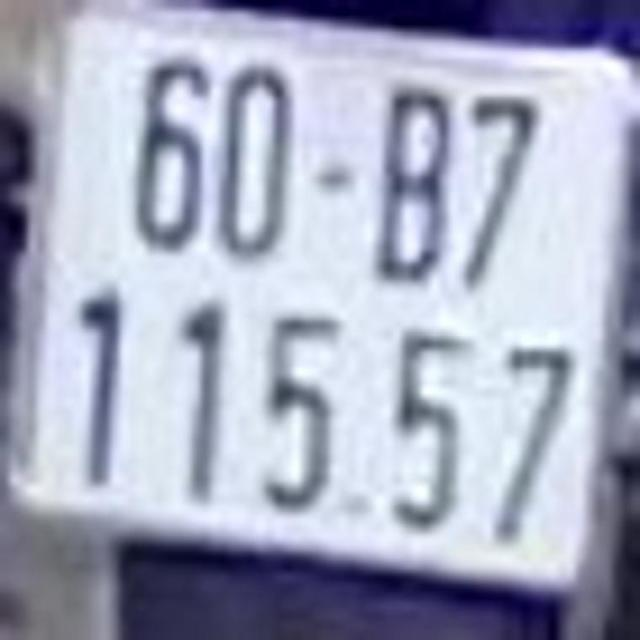0: (215, 58, 293, 260)
1: (174, 292, 226, 506), (74, 287, 126, 490)
5: (388, 318, 473, 535), (262, 307, 341, 515)
6: (134, 49, 210, 255)
7: (492, 334, 578, 548), (462, 83, 543, 294)
B: (374, 77, 453, 288)
